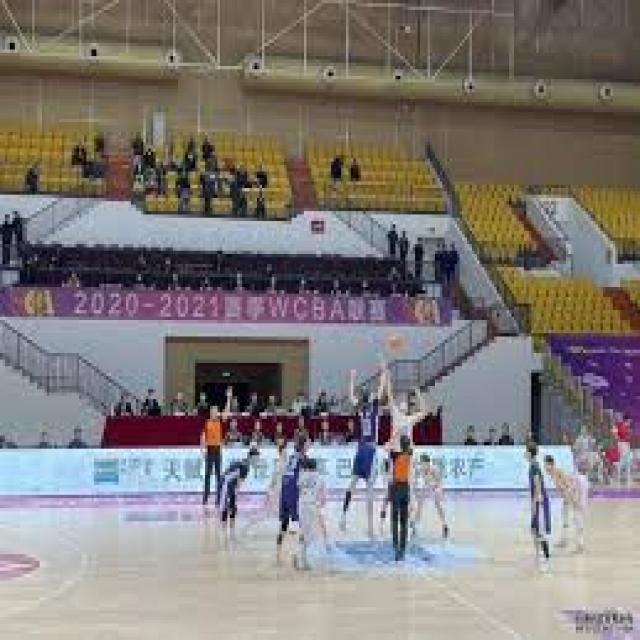rim: (386, 326, 406, 356)
